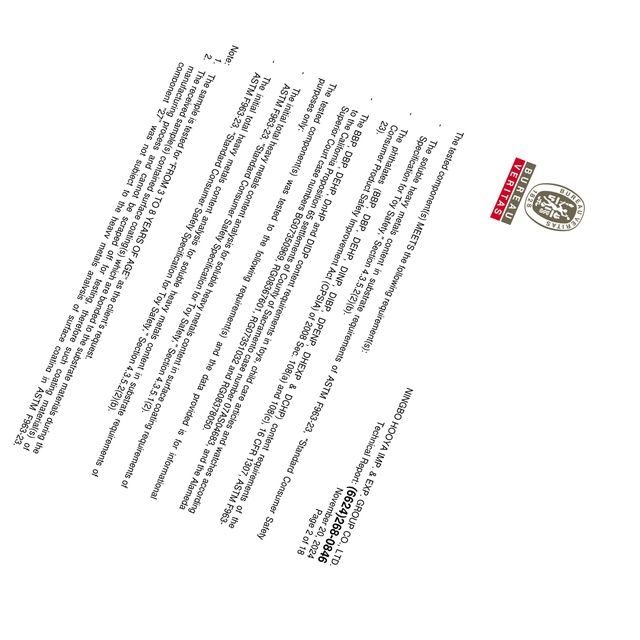bureau_veritas: (483, 153, 583, 238)
